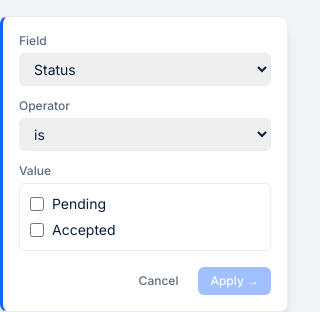
Test: FilterPopover › resets operator and value when the field changes
(page scrolled)
Click the checkbox labelled "Pending".
click(37, 204)  # box [30,197,44,211]
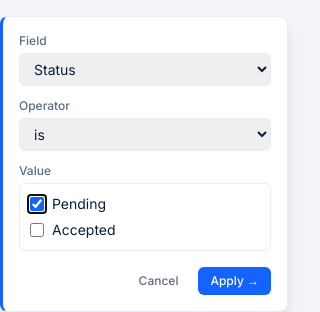
Check: the button "Apply →" is enabled, box [198,267,271,295]
Select "Customer" in the dropdown labelled "Field" at (145, 70), box [19,53,271,86]
(page scrolled)
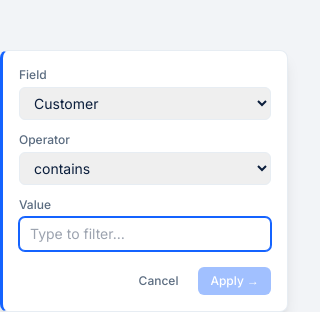
Check: the dropdown labelled "Operator" shows "contains", box [19,152,271,185]
Check: the button "Apply →" is disabled, box [198,267,271,295]
